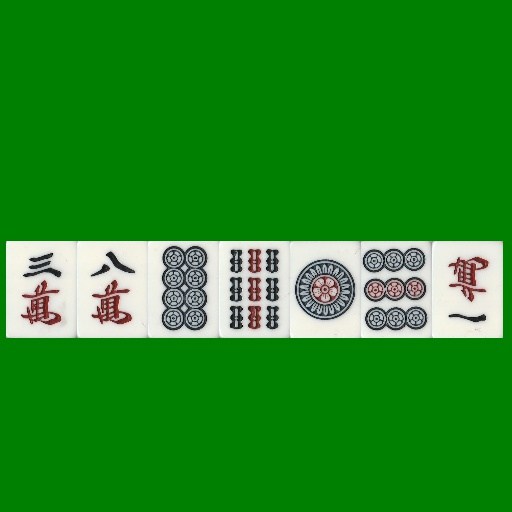1m: (432, 241, 503, 338)
1p: (290, 241, 361, 338)
3m: (6, 241, 77, 338)
8m: (77, 241, 148, 338)
8p: (148, 241, 219, 338)
9p: (361, 241, 432, 338)
9s: (219, 241, 290, 338)
